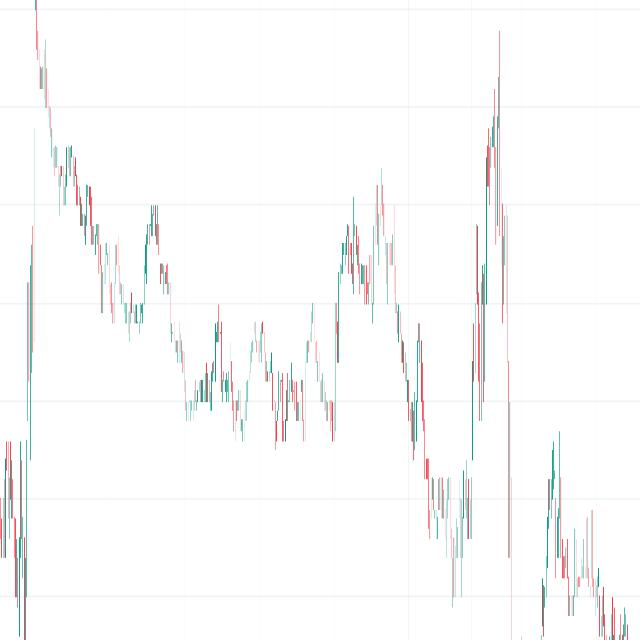Triple-Bottom: (266, 348, 311, 454)
